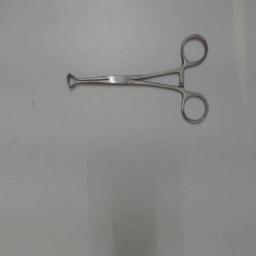Babcock Tissue Forceps: (60, 32, 210, 126)
